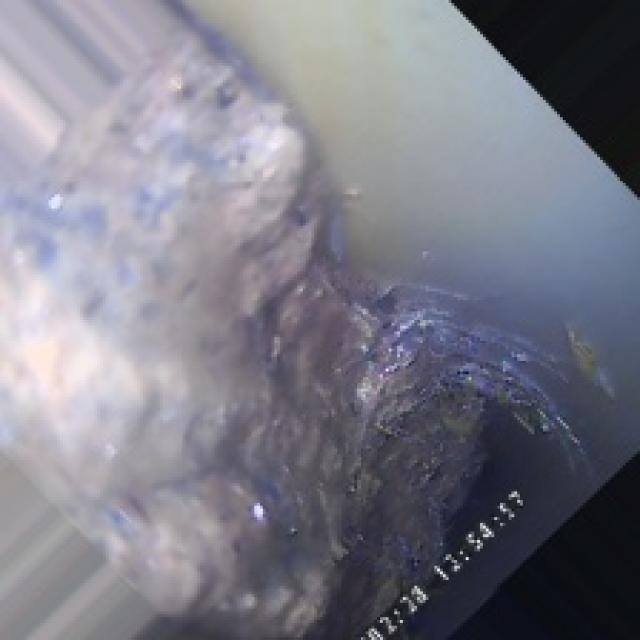sluge accumulation: (63, 106, 554, 477)
